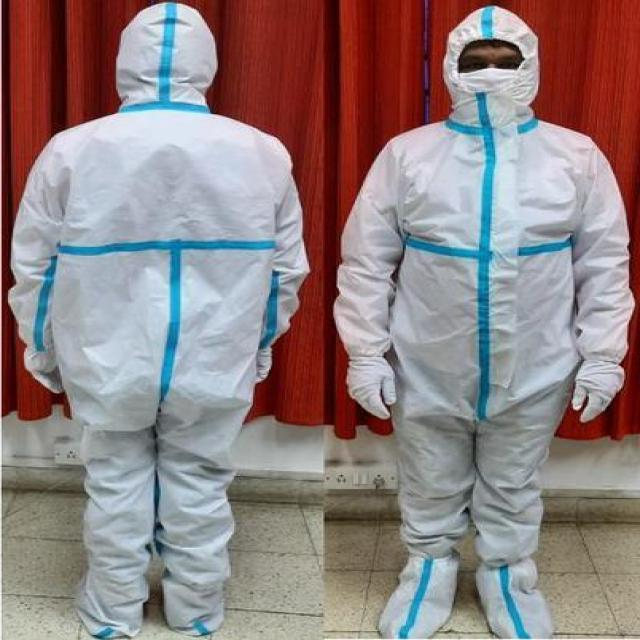gloves: (341, 354, 409, 422), (567, 358, 628, 420)
